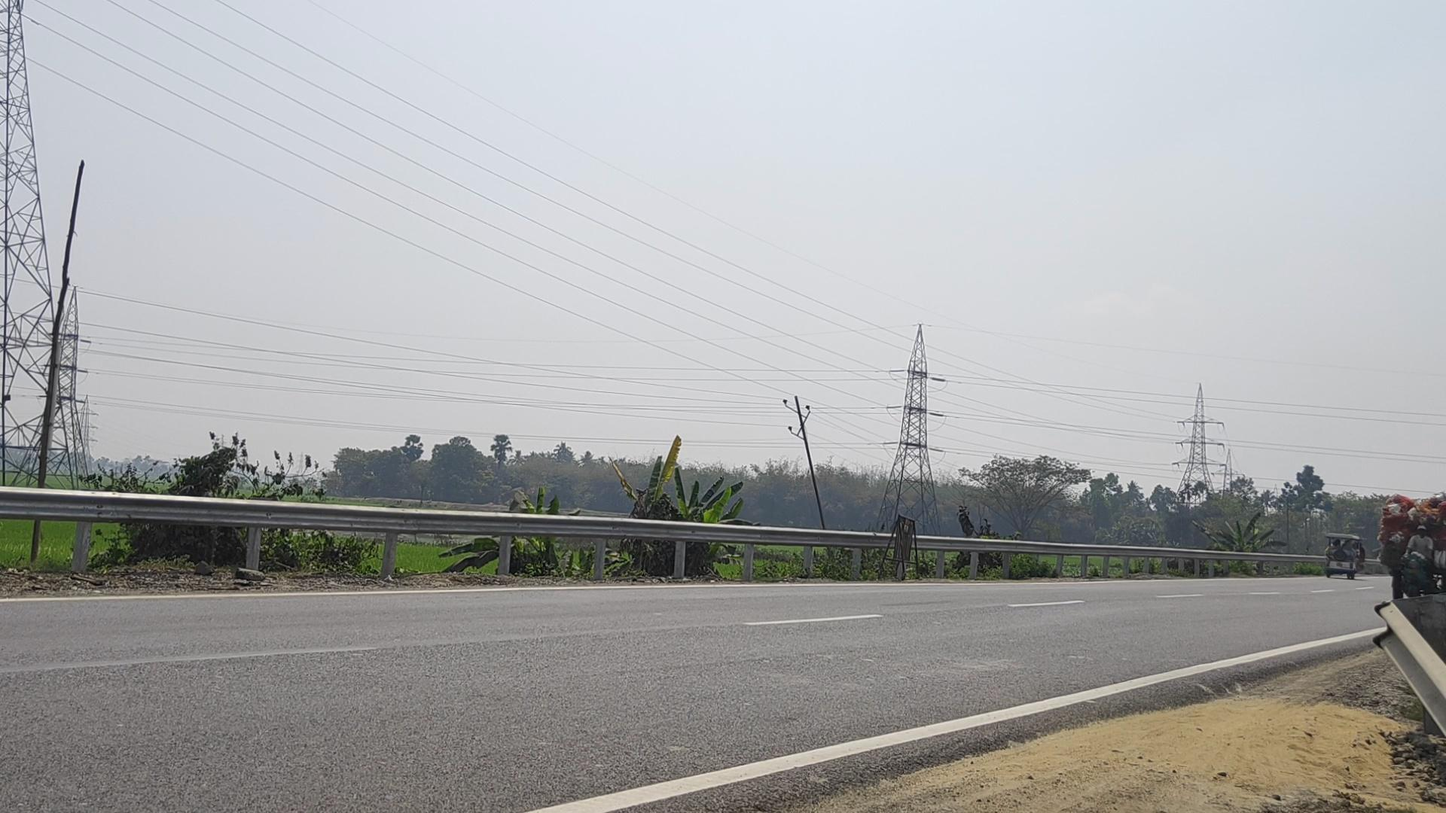Auto: (1324, 532, 1365, 580)
